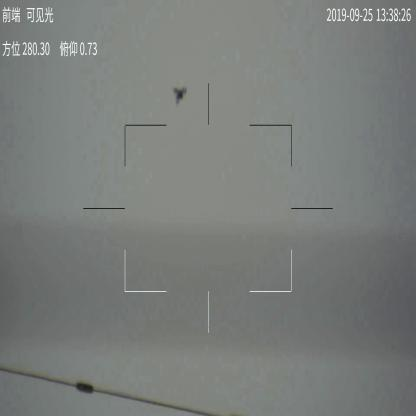uav: (173, 86, 188, 107)
